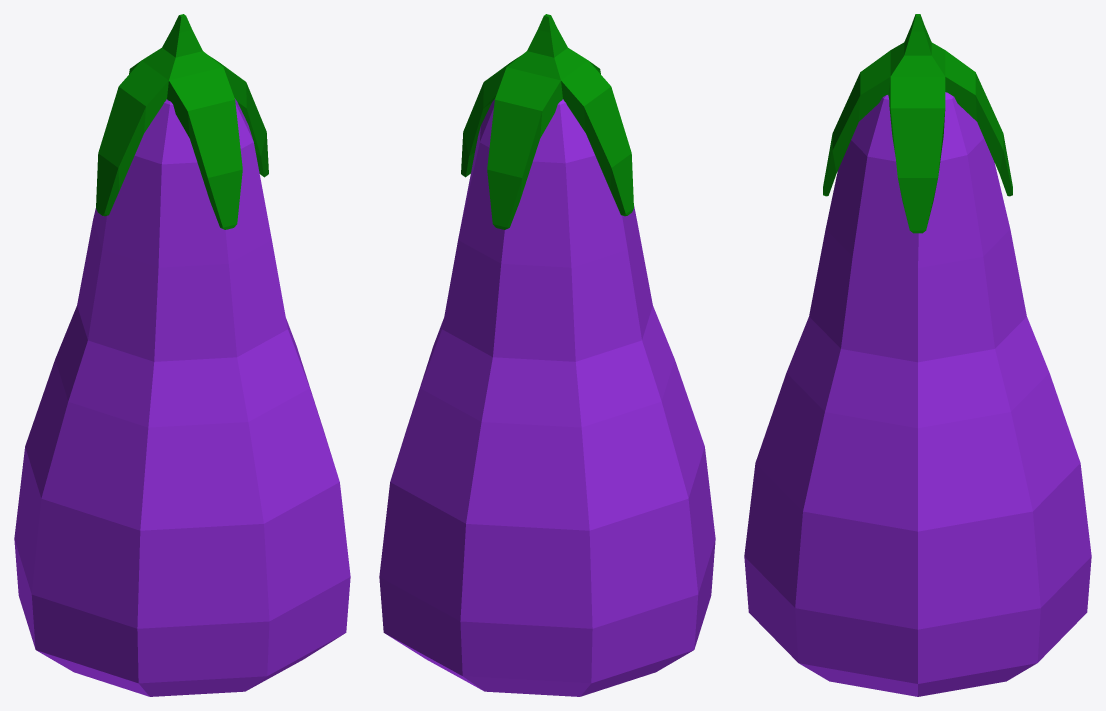
Rendered from eggplant.glb.
The picture shows the model from 3 angles, left to right: view 1: azimuth 30°, elevation 25°; view 2: azimuth 150°, elevation 25°; view 3: azimuth 270°, elevation 25°; orthographic projection.
Parts seen in each view (by area): view 1: Eggplant; view 2: Eggplant; view 3: Eggplant.
Part boxes in pixels (x1,y1,x2,y2): Eggplant: (14, 14, 350, 696); Eggplant: (379, 14, 715, 696); Eggplant: (744, 14, 1091, 696).
Bounding box in the file's own units: 0.1954 × 0.4076 × 0.1954.
